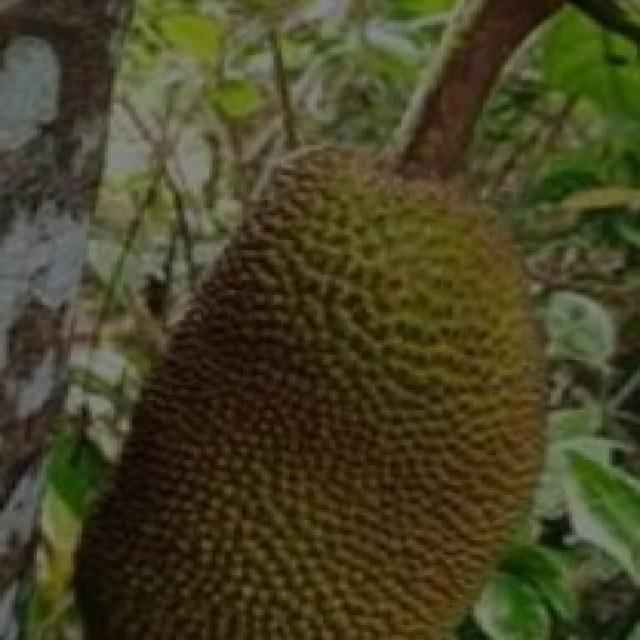Fruit: (267, 247, 615, 640)
